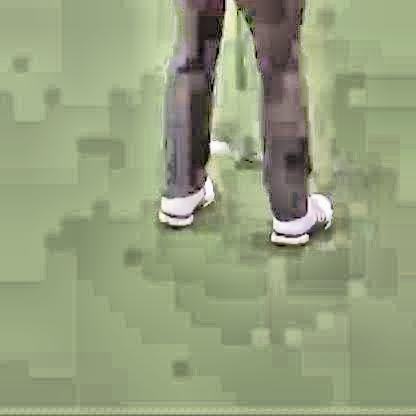golfball: (206, 136, 221, 151)
